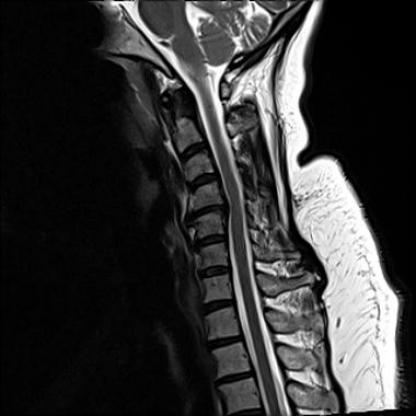Disc Bulgerotation: (185, 173, 220, 189), (186, 204, 225, 218), (177, 143, 209, 159)
Disc Protrusionrotation: (186, 204, 225, 218)
